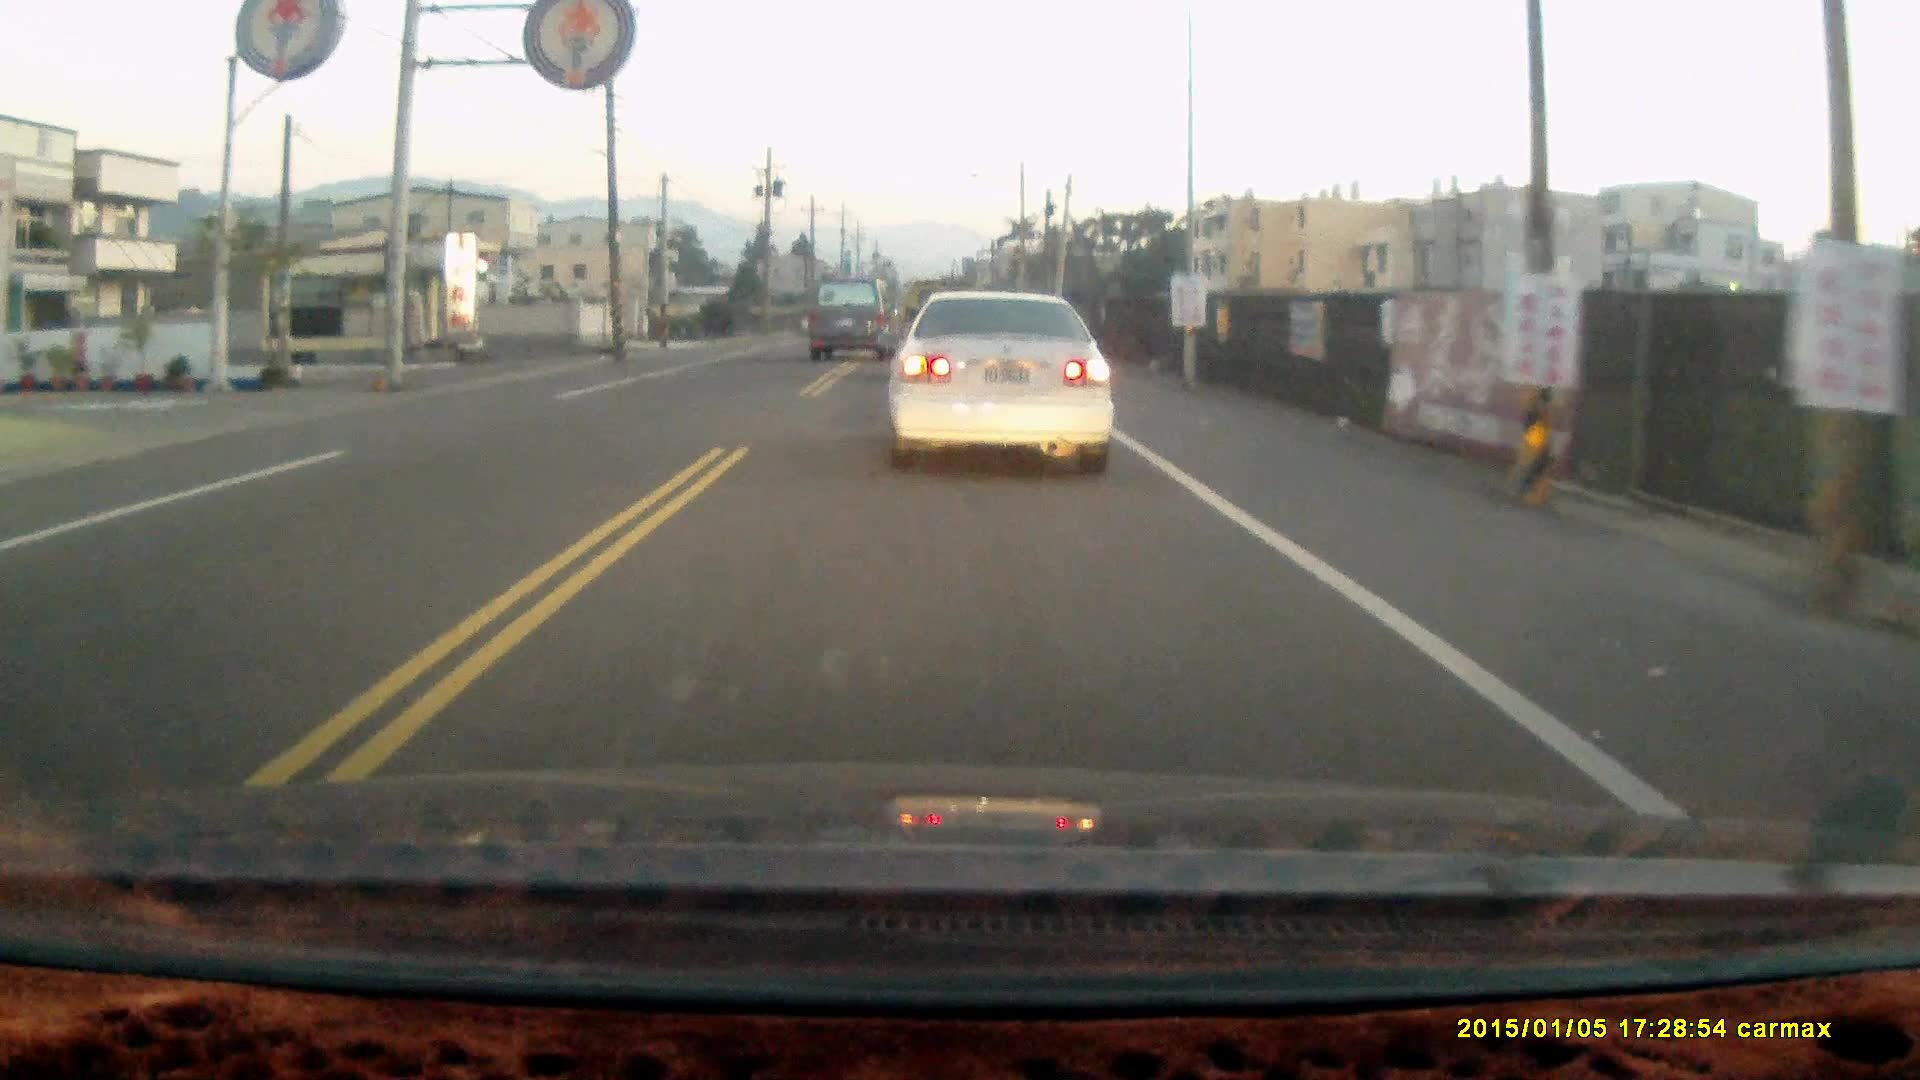vehicle: (885, 290, 1126, 481), (804, 274, 899, 365)
